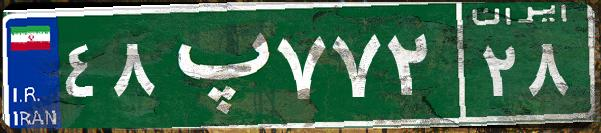2: (385, 28, 445, 110), (475, 38, 525, 113)
4: (57, 26, 110, 107)
7: (273, 28, 330, 110), (330, 28, 385, 110)
8: (110, 28, 158, 105), (525, 38, 570, 115)
پ: (158, 15, 273, 115)
